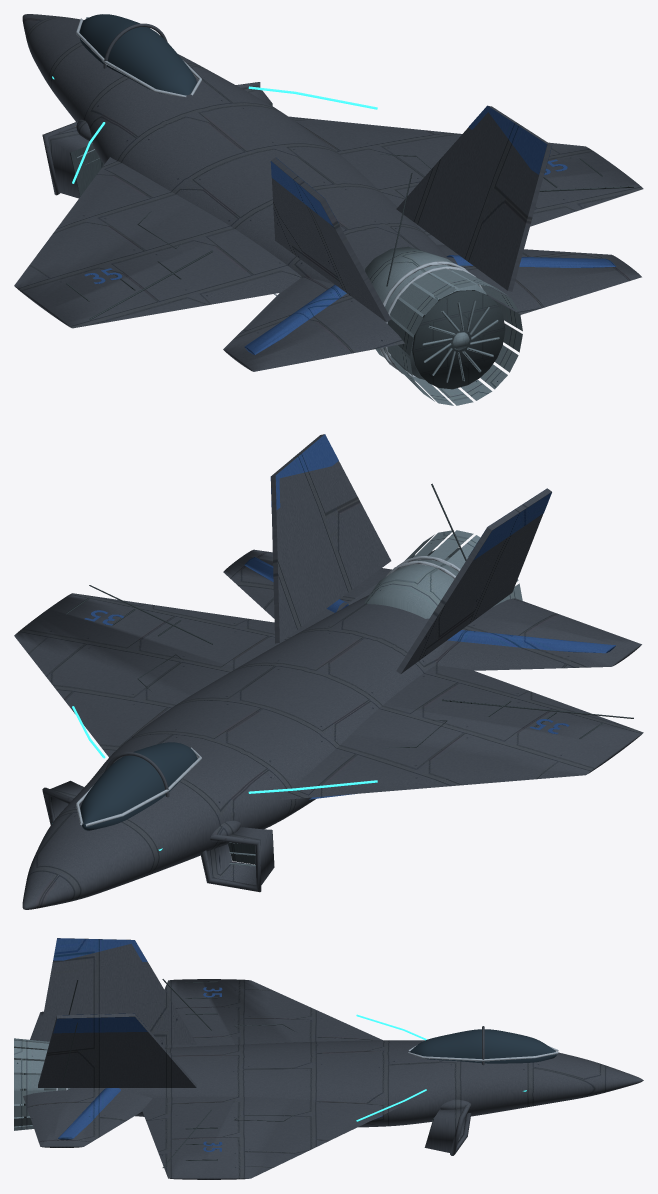
File: astra.glb
3 renders of one model, top to bottom at view 1: azimuth 30°, elevation 25°; view 2: azimuth 150°, elevation 25°; view 3: azimuth 270°, elevation 25°, orthographic. The views are drawn at different scales.
Visible parts, largest first — view 1: carbon-surfaces, titanium-surfaces, graphite-surfaces, cobalt-surfaces, Cockpit glass-surfaces, silver-surfaces, Cyan sensor optics-surfaces; view 2: carbon-surfaces, cobalt-surfaces, Cockpit glass-surfaces, titanium-surfaces, graphite-surfaces, silver-surfaces; view 3: carbon-surfaces, cobalt-surfaces, Cockpit glass-surfaces, titanium-surfaces, graphite-surfaces, silver-surfaces, Cyan sensor optics-surfaces.
Part boxes in pixels (x1,y1,x2,y2): carbon-surfaces: [14, 14, 643, 371]; titanium-surfaces: [77, 149, 522, 405]; graphite-surfaces: [66, 103, 633, 389]; cobalt-surfaces: [84, 105, 616, 354]; Cockpit glass-surfaces: [79, 14, 196, 95]; silver-surfaces: [76, 17, 482, 377]; Cyan sensor optics-surfaces: [52, 76, 377, 183]; carbon-surfaces: [14, 434, 643, 909]; cobalt-surfaces: [84, 434, 615, 799]; Cockpit glass-surfaces: [80, 742, 197, 830]; titanium-surfaces: [229, 530, 522, 866]; graphite-surfaces: [66, 483, 633, 864]; silver-surfaces: [76, 556, 460, 826]; carbon-surfaces: [23, 938, 643, 1179]; cobalt-surfaces: [53, 938, 382, 1151]; Cockpit glass-surfaces: [410, 1029, 557, 1063]; titanium-surfaces: [14, 1038, 432, 1130]; graphite-surfaces: [24, 979, 434, 1167]; silver-surfaces: [55, 1041, 558, 1090]; Cyan sensor optics-surfaces: [356, 1014, 526, 1121].
Bounding box in the file's own units: 6.24 × 2.19 × 8.38.
Materials: 7 (5 with a texture image).
